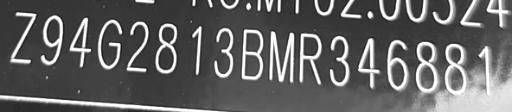letter: (266, 27, 298, 83), (440, 41, 472, 96), (92, 16, 124, 70), (8, 9, 38, 65), (236, 25, 266, 81), (380, 35, 410, 91), (323, 33, 353, 87), (182, 23, 208, 83), (152, 20, 180, 75), (411, 38, 439, 93), (64, 14, 92, 66), (124, 19, 150, 74), (354, 33, 380, 88), (297, 30, 323, 84), (212, 25, 236, 82), (38, 12, 64, 64), (472, 43, 494, 95)
